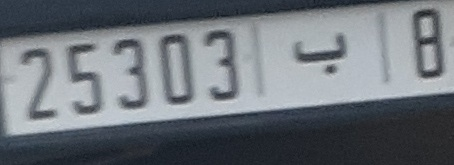0: (156, 32, 195, 107)
2: (18, 47, 61, 124)
3: (201, 29, 241, 104), (109, 37, 150, 110)
5: (64, 41, 105, 115)
8: (408, 5, 448, 83)
b: (291, 30, 351, 80)
